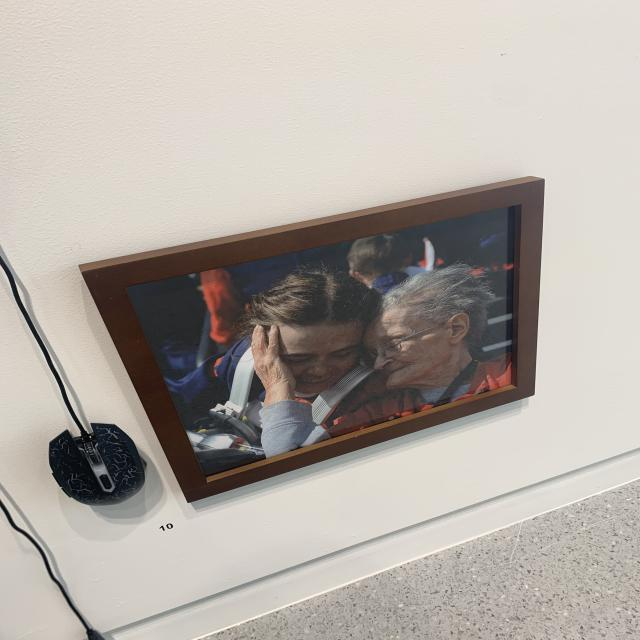Mouse: (37, 417, 163, 512)
